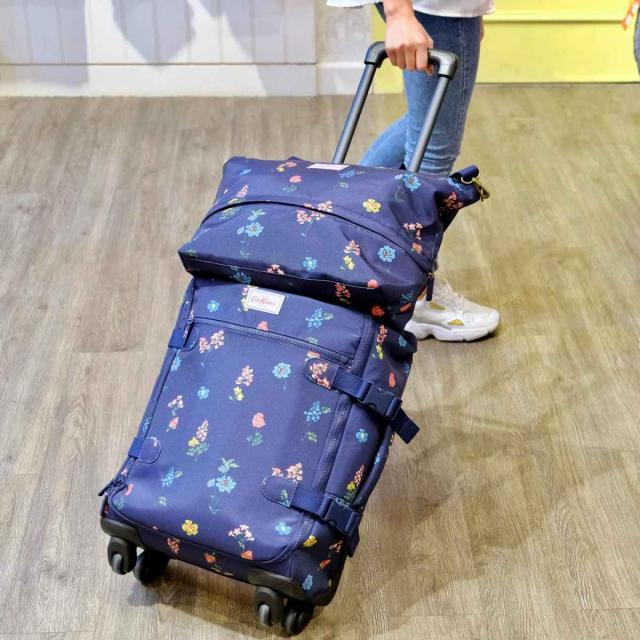Handbag: (97, 150, 483, 640)
